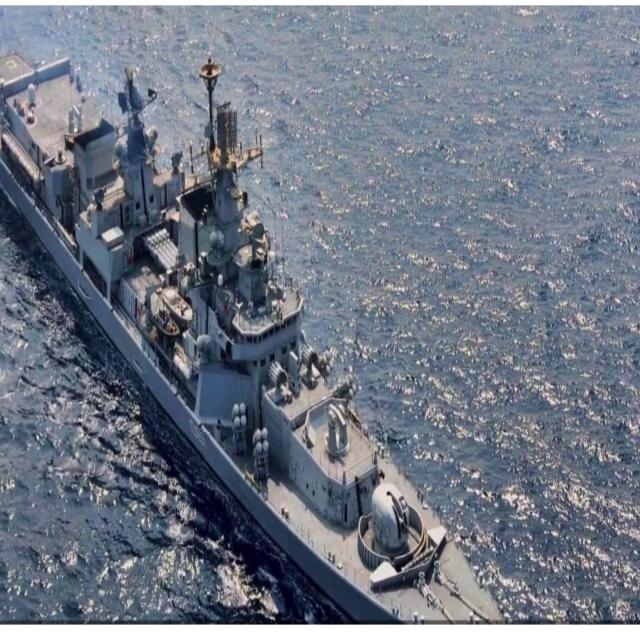OCR: (183, 409, 210, 457)
